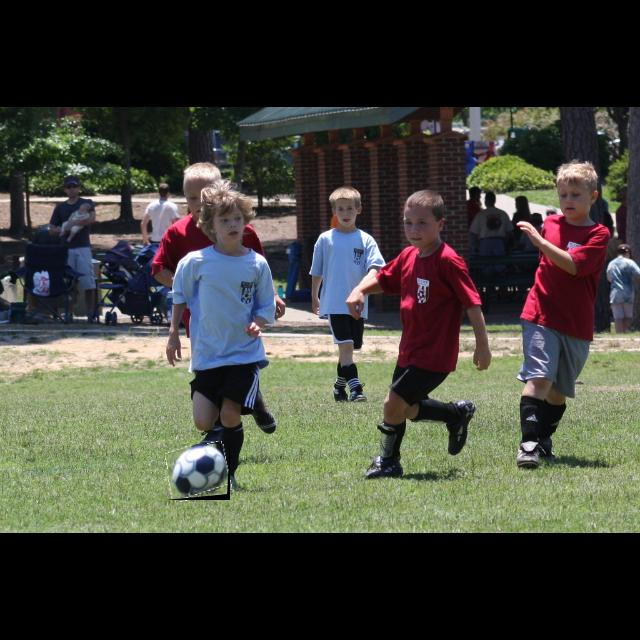Football: (168, 444, 230, 500)
